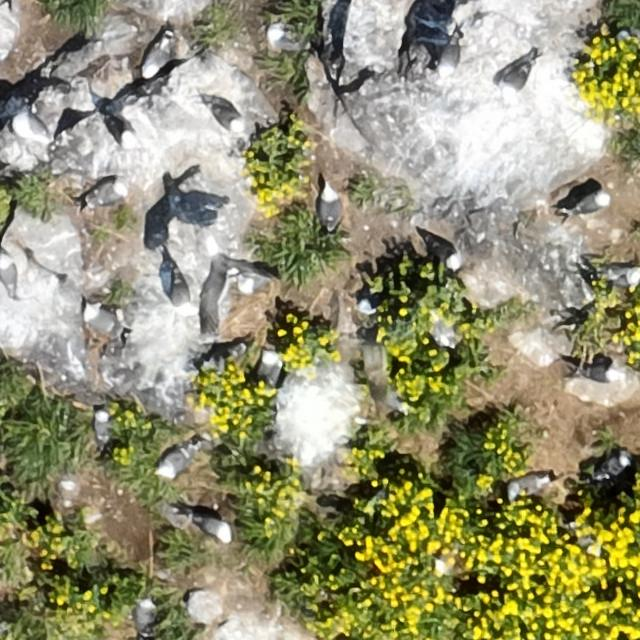F: (202, 233, 272, 321)
umineko: (12, 106, 62, 147), (103, 104, 141, 154), (138, 34, 173, 83), (579, 363, 627, 384), (158, 446, 191, 475), (194, 515, 232, 540), (426, 236, 458, 265), (320, 188, 340, 228), (510, 474, 546, 495), (600, 454, 630, 479), (211, 106, 240, 130), (87, 308, 116, 332), (260, 352, 280, 386), (574, 192, 608, 212), (92, 183, 124, 204), (502, 65, 527, 91), (171, 277, 189, 310), (135, 599, 153, 630), (439, 41, 457, 70), (94, 408, 109, 442), (0, 258, 14, 292), (359, 294, 377, 314)
